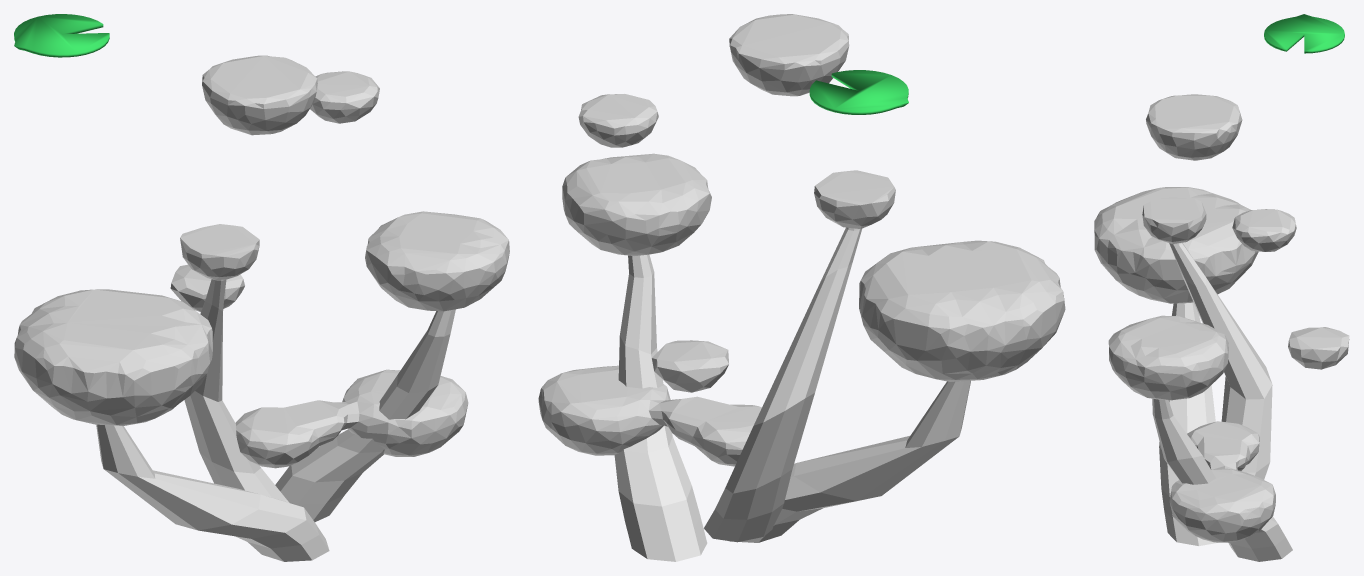
Rendered from level_drevo.fbx.
The picture shows the model from 3 angles, left to right: view 1: azimuth 30°, elevation 25°; view 2: azimuth 150°, elevation 25°; view 3: azimuth 270°, elevation 25°; orthographic projection. The views are drawn at different scales.
Parts seen in each view (by area): view 1: Cube.030, Cube.019, Cube.020, Cylinder.011, Cylinder.012, Cube.022, Cylinder.013, Cube.021, Circle.004, Cube.024, Cube.023; view 2: Cube.030, Cylinder.013, Cylinder.012, Cube.019, Cube.020, Cylinder.011, Cube.022, Cube.021, Circle.004, Cube.024, Cube.023; view 3: Cube.030, Cube.019, Cube.020, Cylinder.013, Cube.022, Cylinder.012, Cylinder.011, Cube.021, Circle.004, Cube.024, Cube.023.
Boxes of the visible parts, x1=… form: Cube.030: x1=14, y1=289, x2=212, y2=425; Cube.019: x1=235, y1=369, x2=468, y2=468; Cube.020: x1=365, y1=211, x2=509, y2=311; Cylinder.011: x1=96, y1=424, x2=329, y2=561; Cylinder.012: x1=275, y1=309, x2=455, y2=521; Cube.022: x1=202, y1=55, x2=317, y2=135; Cylinder.013: x1=184, y1=279, x2=289, y2=502; Cube.021: x1=180, y1=224, x2=259, y2=279; Circle.004: x1=14, y1=14, x2=109, y2=57; Cube.024: x1=310, y1=71, x2=379, y2=123; Cube.023: x1=170, y1=264, x2=244, y2=312; Cube.030: x1=859, y1=240, x2=1065, y2=381; Cylinder.013: x1=704, y1=227, x2=861, y2=542; Cylinder.012: x1=614, y1=254, x2=707, y2=561; Cube.019: x1=538, y1=365, x2=761, y2=466; Cube.020: x1=562, y1=153, x2=711, y2=255; Cylinder.011: x1=729, y1=380, x2=970, y2=542; Cube.022: x1=729, y1=14, x2=849, y2=96; Cube.021: x1=814, y1=170, x2=895, y2=228; Circle.004: x1=809, y1=70, x2=908, y2=114; Cube.024: x1=578, y1=94, x2=658, y2=147; Cube.023: x1=652, y1=340, x2=728, y2=392; Cube.030: x1=1094, y1=187, x2=1258, y2=303; Cube.019: x1=1169, y1=421, x2=1275, y2=542; Cube.020: x1=1108, y1=315, x2=1228, y2=400; Cylinder.013: x1=1169, y1=242, x2=1272, y2=479; Cube.022: x1=1146, y1=94, x2=1242, y2=160; Cylinder.012: x1=1152, y1=398, x2=1292, y2=561; Cylinder.011: x1=1159, y1=302, x2=1217, y2=545; Cube.021: x1=1142, y1=197, x2=1206, y2=243; Circle.004: x1=1264, y1=14, x2=1344, y2=53; Cube.024: x1=1232, y1=209, x2=1296, y2=251; Cube.023: x1=1288, y1=327, x2=1349, y2=369.
Bounding box in the file's own units: 3227 × 3374 × 1817.
